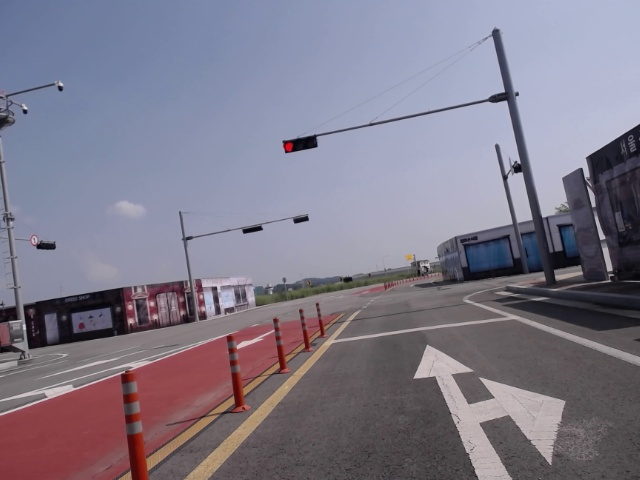red_3: (283, 134, 317, 154)
